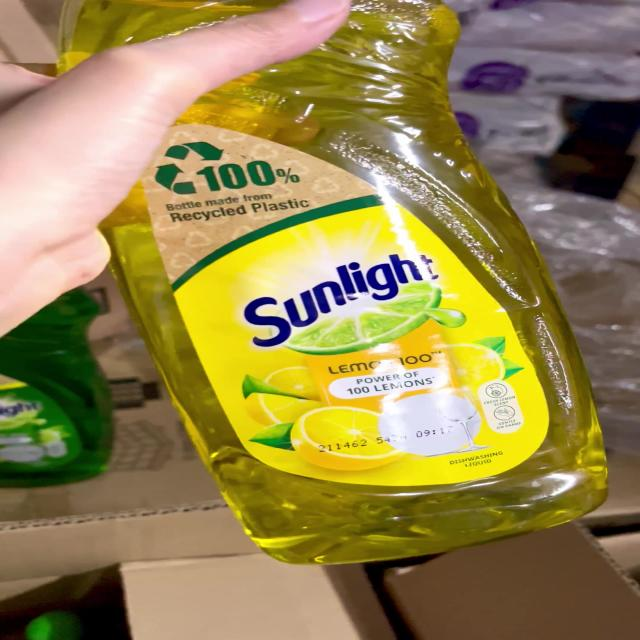plastic: (74, 0, 608, 564)
